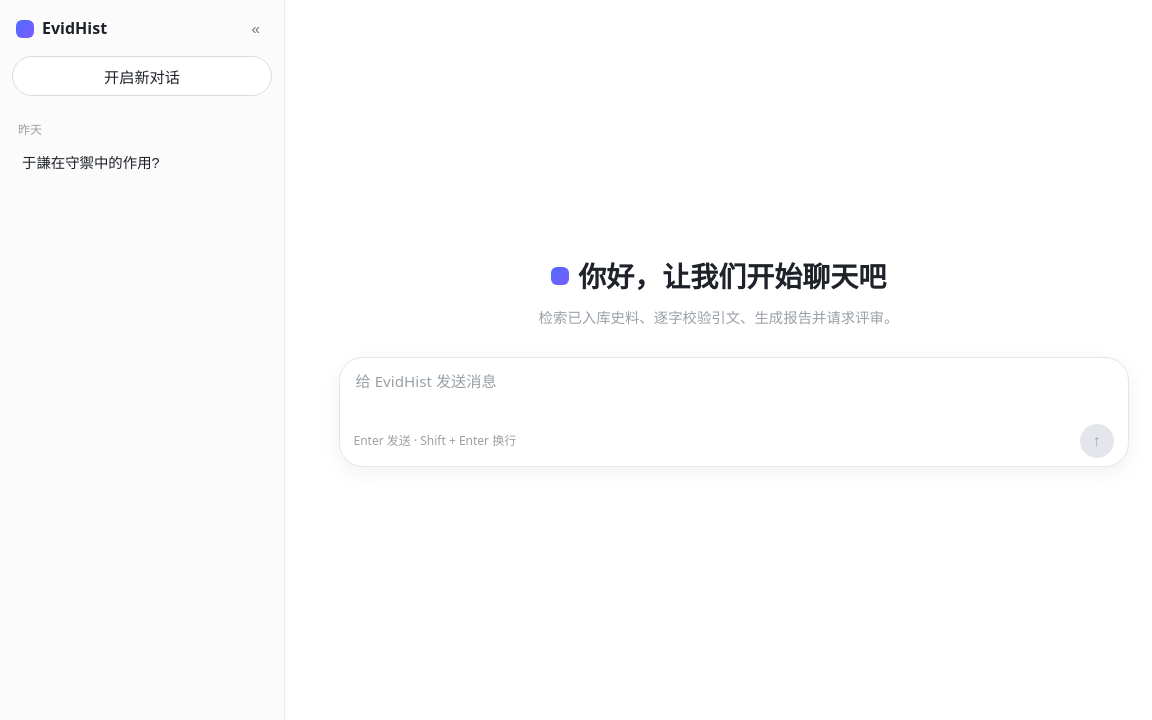
chat view › reports a failed stream and offers a retry
This screenshot has width=1152, height=720.
Click the button "于謙在守禦中的作用?" at (142, 161), box [12,143,272,180]
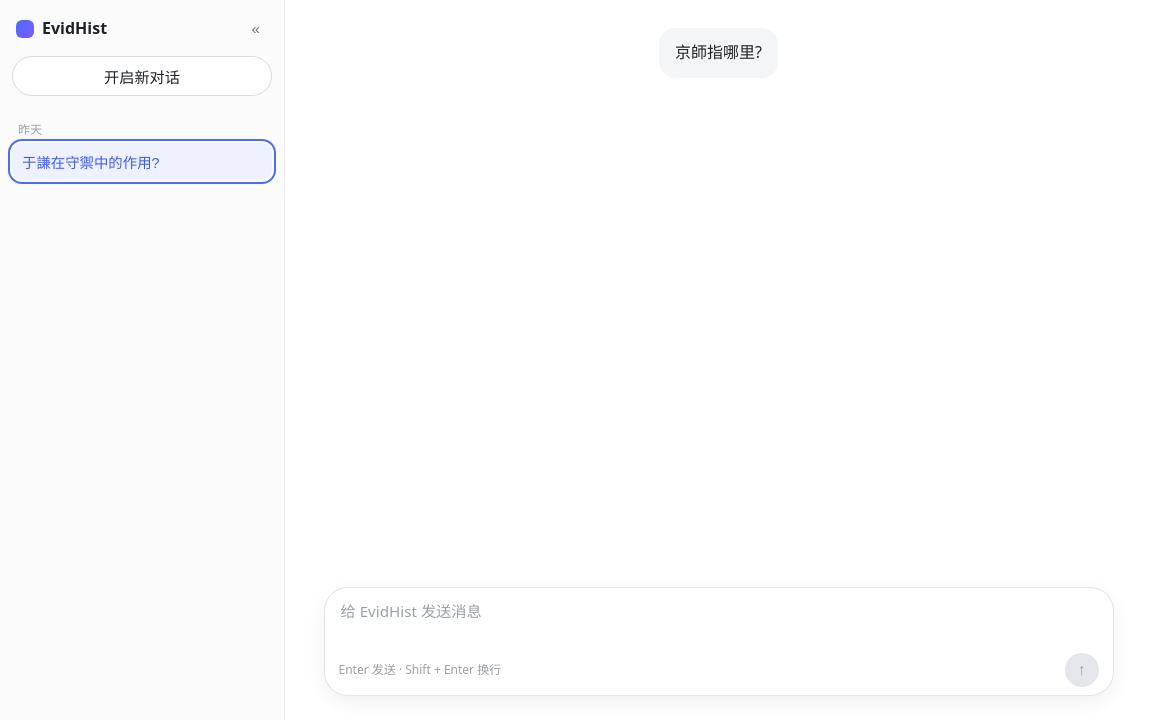
Type "京師指哪里?" into the text box named "输入消息" at (718, 623), box [338,598,1098,647]
Then press Enter
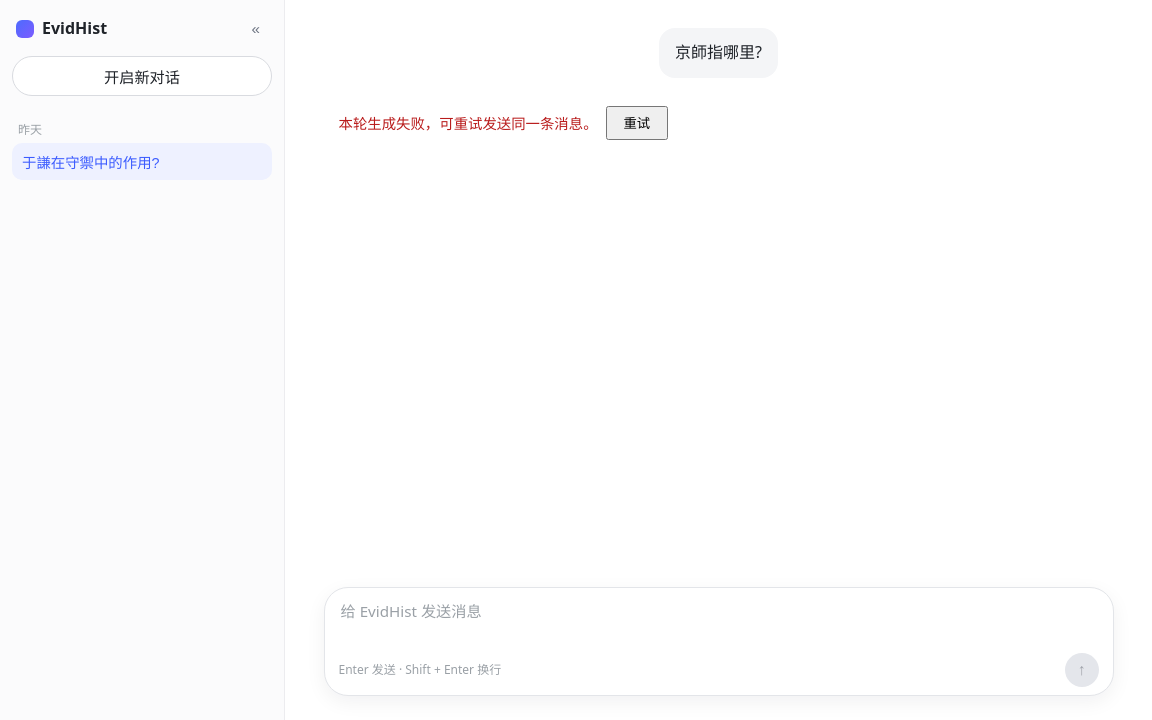
Expected: the message shows "本轮生成失败", [338,113,598,132]
Expected: the button "重试" is shown, [606,106,668,140]
